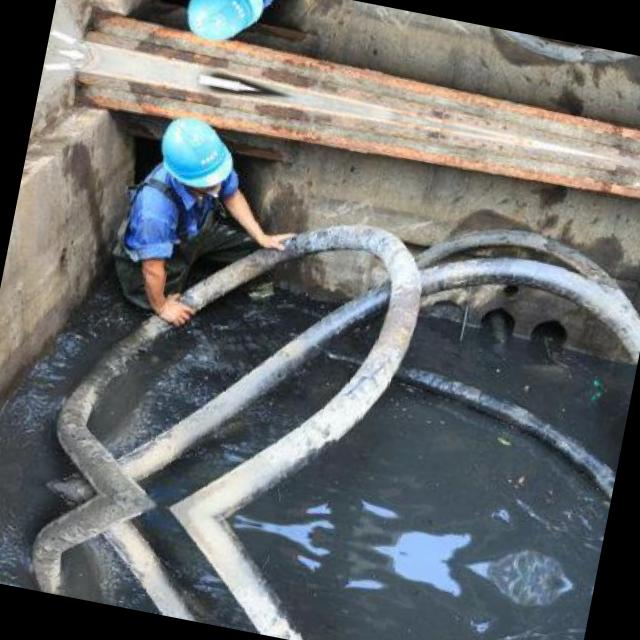helmet: (146, 110, 242, 198), (175, 0, 271, 51)
